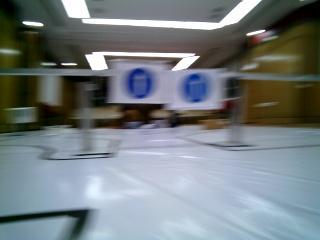straight: (111, 57, 172, 103), (172, 73, 222, 102)
